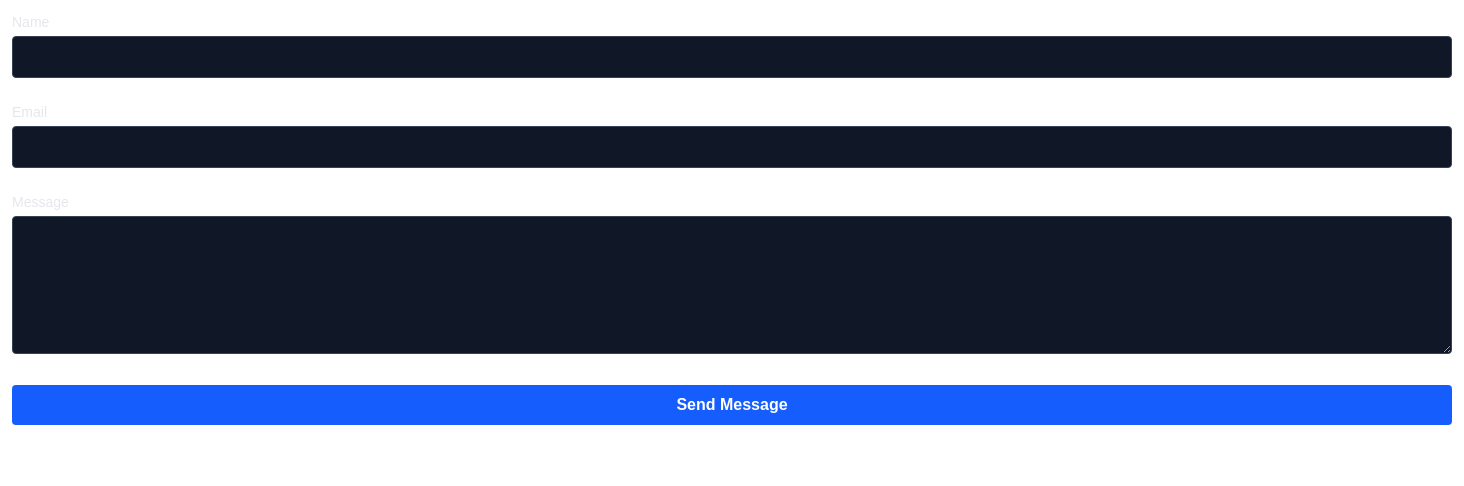
Test: ContactForm › submits form successfully and shows success message
This screenshot has width=1464, height=486.
Note: Fill out form
Type "John Doe" into the field labelled "Name".
click(732, 57); type("John Doe")  # box x1=12 y1=36 x2=1452 y2=78
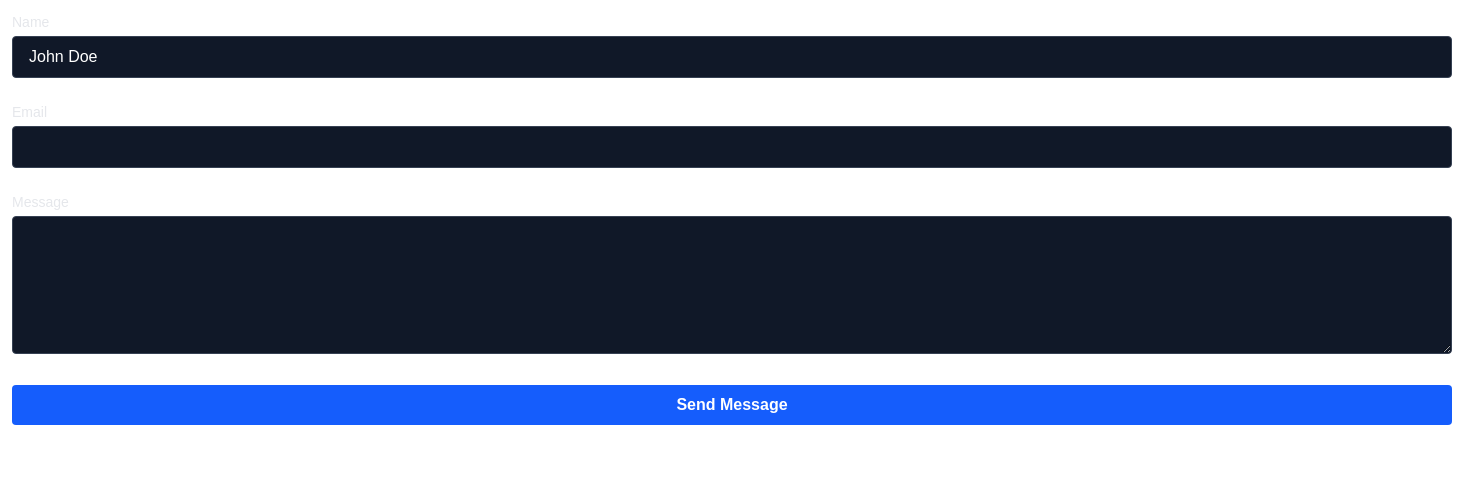
Type "john@example.com" into the field labelled "Email".
click(732, 147); type("john@example.com")  # box x1=12 y1=126 x2=1452 y2=168
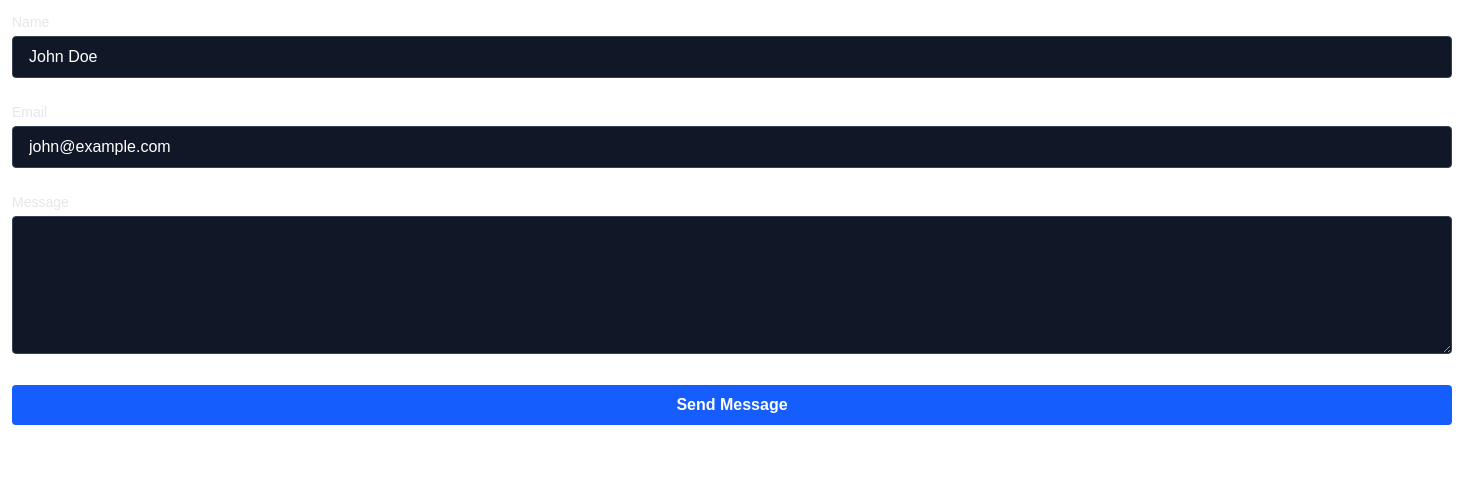
Type "Hello from John" into the text box labelled "Message".
click(732, 285); type("Hello from John")  # box x1=12 y1=216 x2=1452 y2=354
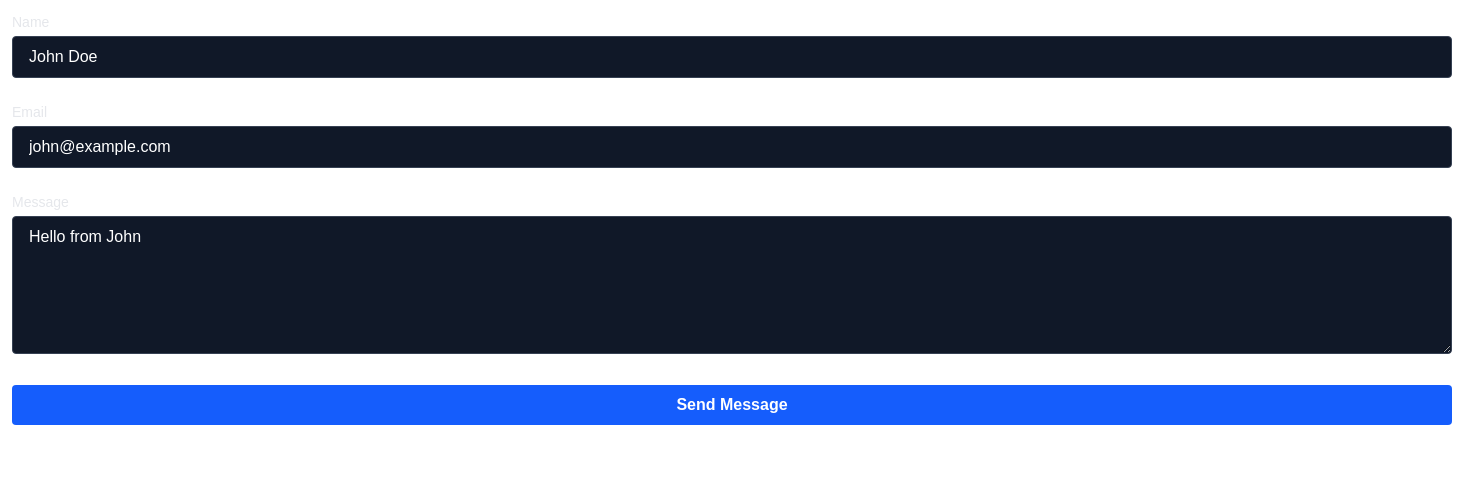
Note: Submit form
Click the button "Send Message".
click(732, 405)  # box x1=12 y1=385 x2=1452 y2=425
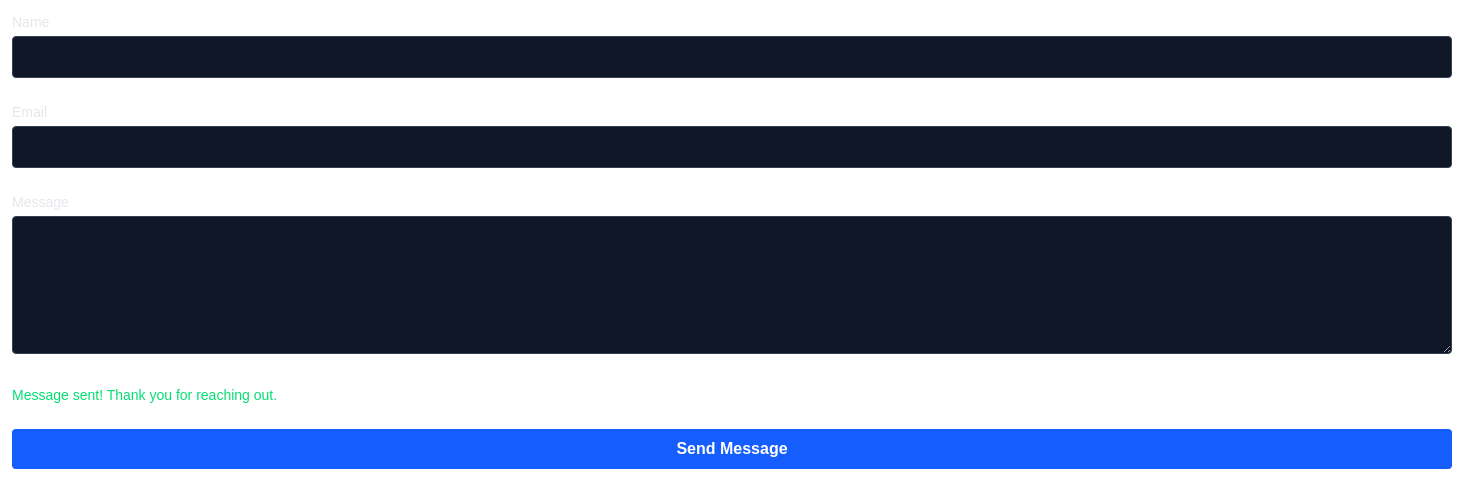
Result: the text "Message sent! Thank you for reaching out." is shown at x1=12 y1=387 x2=277 y2=403
